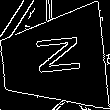N_W: (26, 38, 81, 83)
